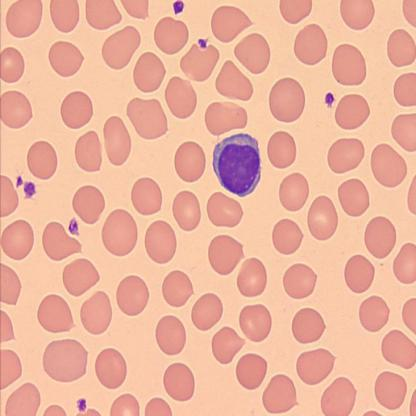Lymphocyte: (211, 132, 262, 197)
